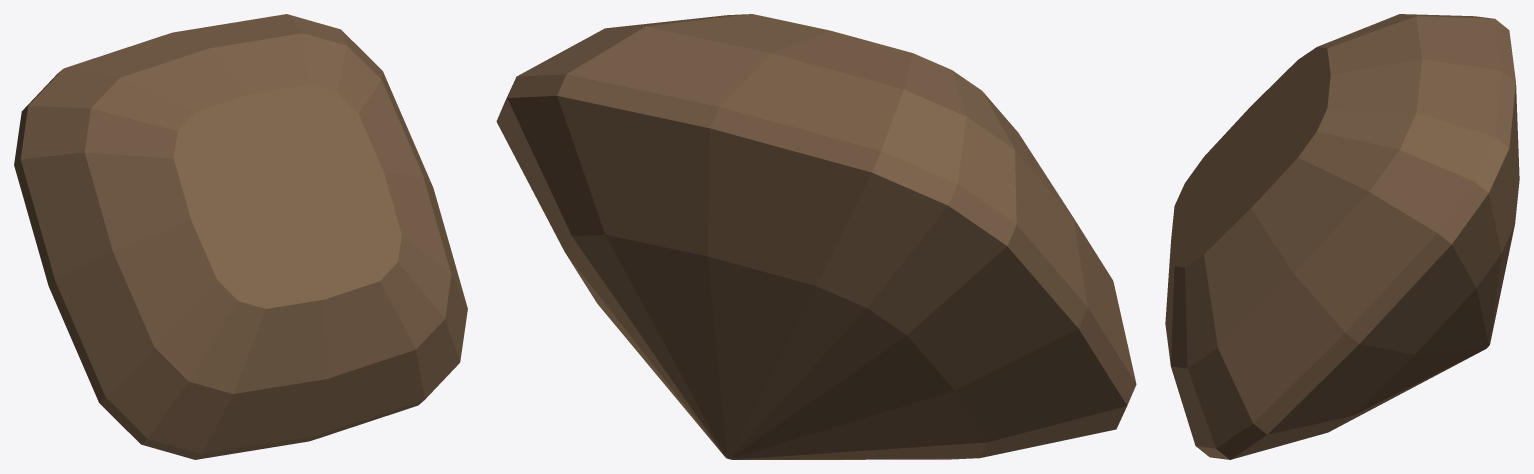
The model's file is smoky-quartz.glb.
3 views of the same model, side by side, from view 1: azimuth 30°, elevation 25°; view 2: azimuth 150°, elevation 25°; view 3: azimuth 270°, elevation 25° (orthographic). The views are drawn at different scales.
Visible parts, largest first — view 1: smoky-quartz; view 2: smoky-quartz; view 3: smoky-quartz.
Boxes of the visible parts, x1,y1,x2,y2 form: smoky-quartz: [14, 14, 467, 459]; smoky-quartz: [496, 14, 1136, 459]; smoky-quartz: [1165, 14, 1519, 459].
Bounding box in the file's own units: 2.1 × 1.69 × 1.57.
